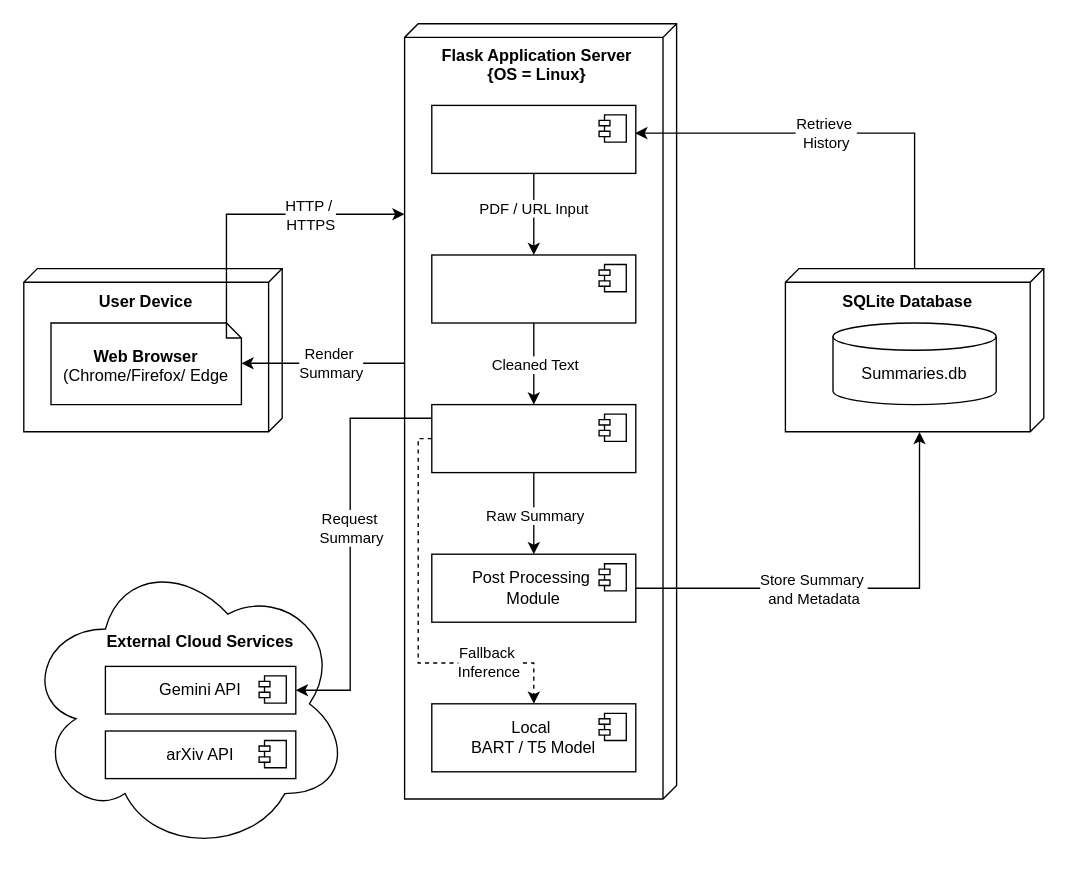
Some shapes in this 1068 by 877 pixel diagram are drawn without their labels. Each missing label, with the box of its shape:
Abstractify Web Application: (430, 104, 636, 173)
Input Processing Module: (430, 254, 636, 323)
Summarization Engine: (430, 403, 636, 473)
